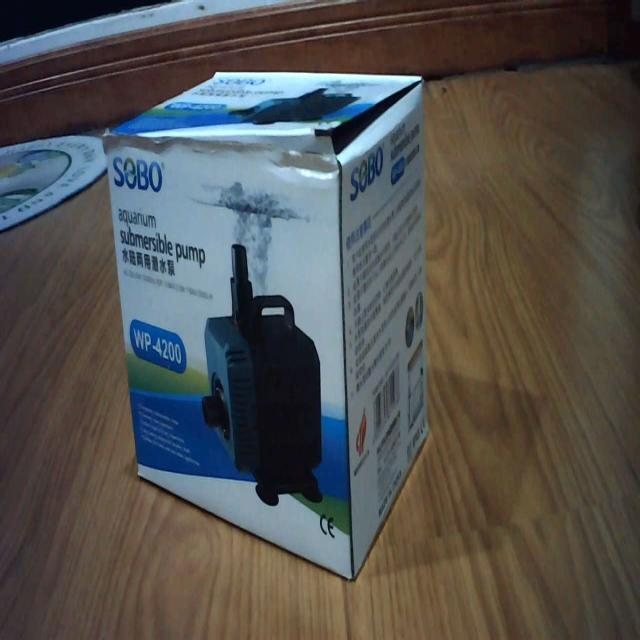SOBO_WP_4200: (98, 65, 426, 583)
